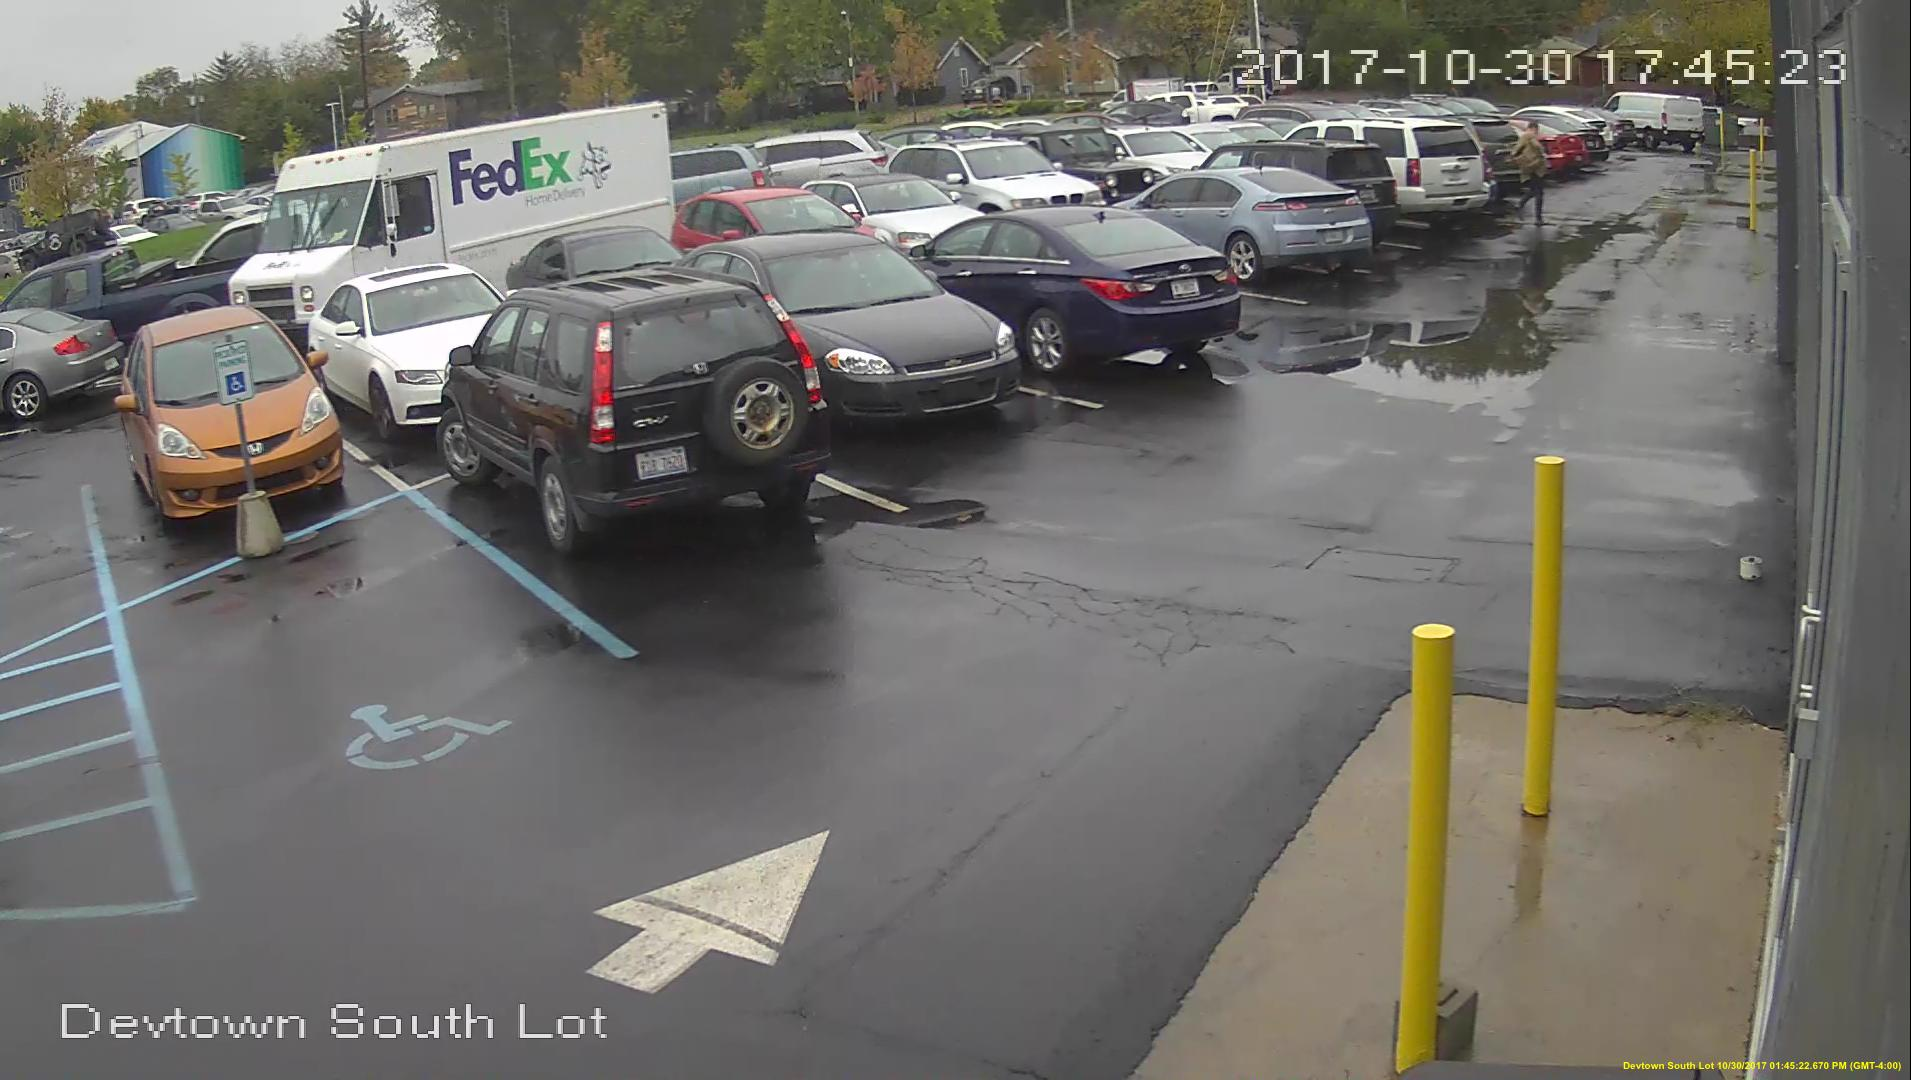fedex_truck: (226, 105, 664, 335)
